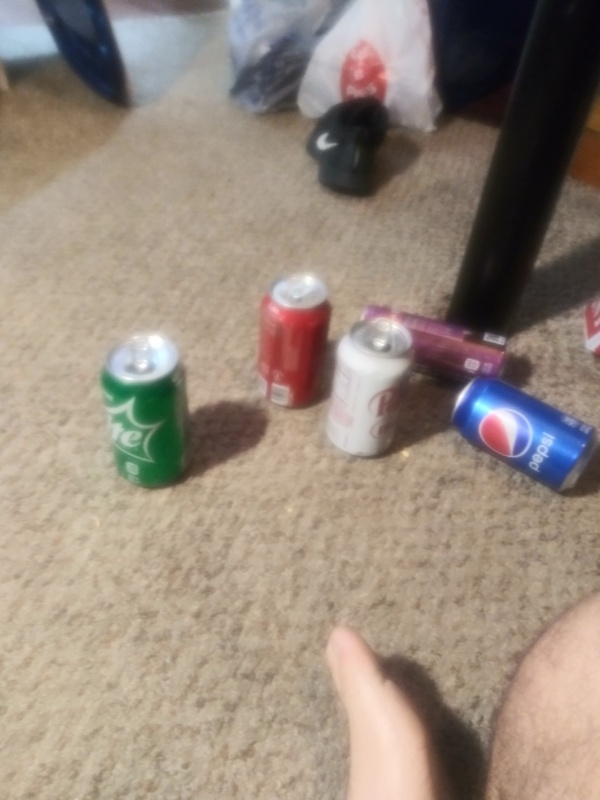can: (447, 370, 599, 496), (97, 330, 194, 492), (321, 313, 419, 458), (353, 298, 512, 381), (252, 269, 334, 411)
